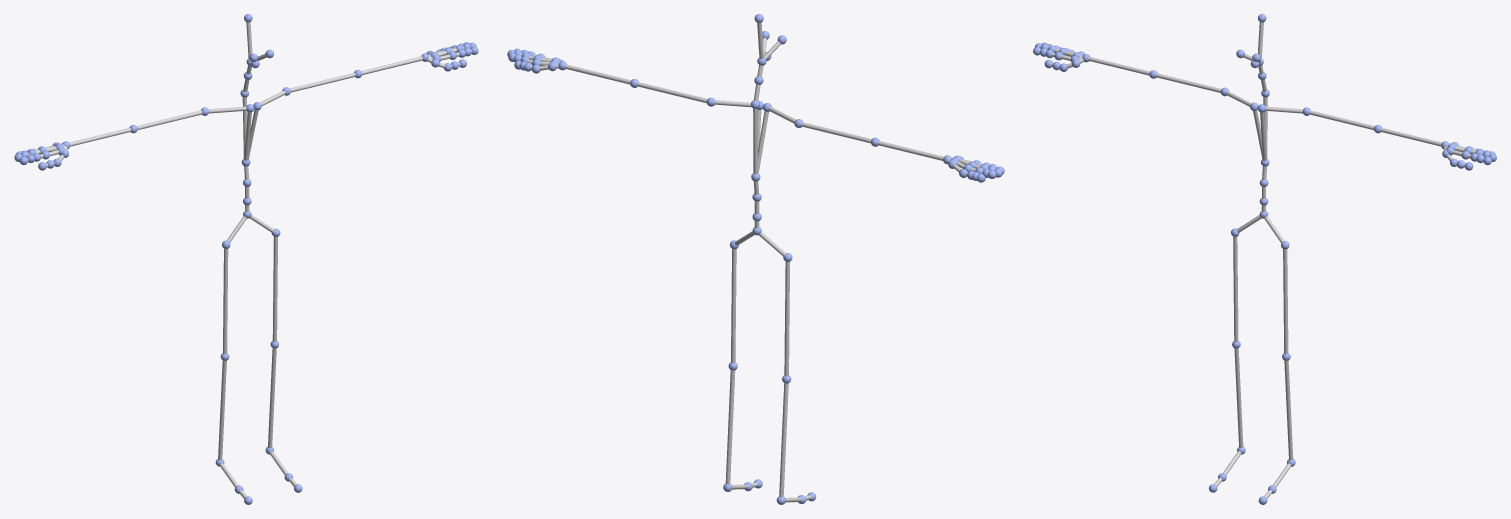
The model's file is SOMA77.fbx.
3 renders of one model, left to right at view 1: azimuth 30°, elevation 25°; view 2: azimuth 150°, elevation 25°; view 3: azimuth 330°, elevation 25°, orthographic. The views are drawn at different scales.
Visible parts, largest first — view 1: BoneSegment_5, BoneSegment_4; view 2: BoneSegment_7, BoneSegment_8, BoneSegment_4, BoneSegment_5; view 3: BoneSegment_5, BoneSegment_4.
Boxes of the visible parts, bbox=[...] form: BoneSegment_5: bbox=[223, 248, 228, 354]; BoneSegment_4: bbox=[272, 237, 277, 341]; BoneSegment_7: bbox=[725, 370, 735, 484]; BoneSegment_8: bbox=[779, 383, 788, 497]; BoneSegment_4: bbox=[731, 249, 736, 363]; BoneSegment_5: bbox=[784, 262, 789, 376]; BoneSegment_5: bbox=[1233, 236, 1238, 342]; BoneSegment_4: bbox=[1283, 249, 1288, 354].
Bounding box in the file's own units: 186 × 179 × 25.74.
